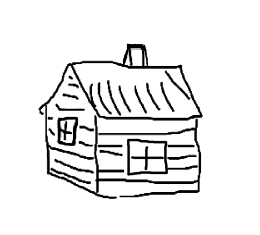chimney: (114, 29, 154, 71)
closed_window: (122, 136, 169, 182), (49, 116, 83, 147)
roof: (35, 54, 216, 127)
wall: (89, 110, 208, 202)
